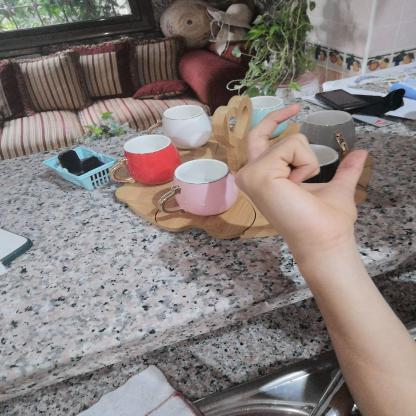NOON: (215, 90, 378, 253)
